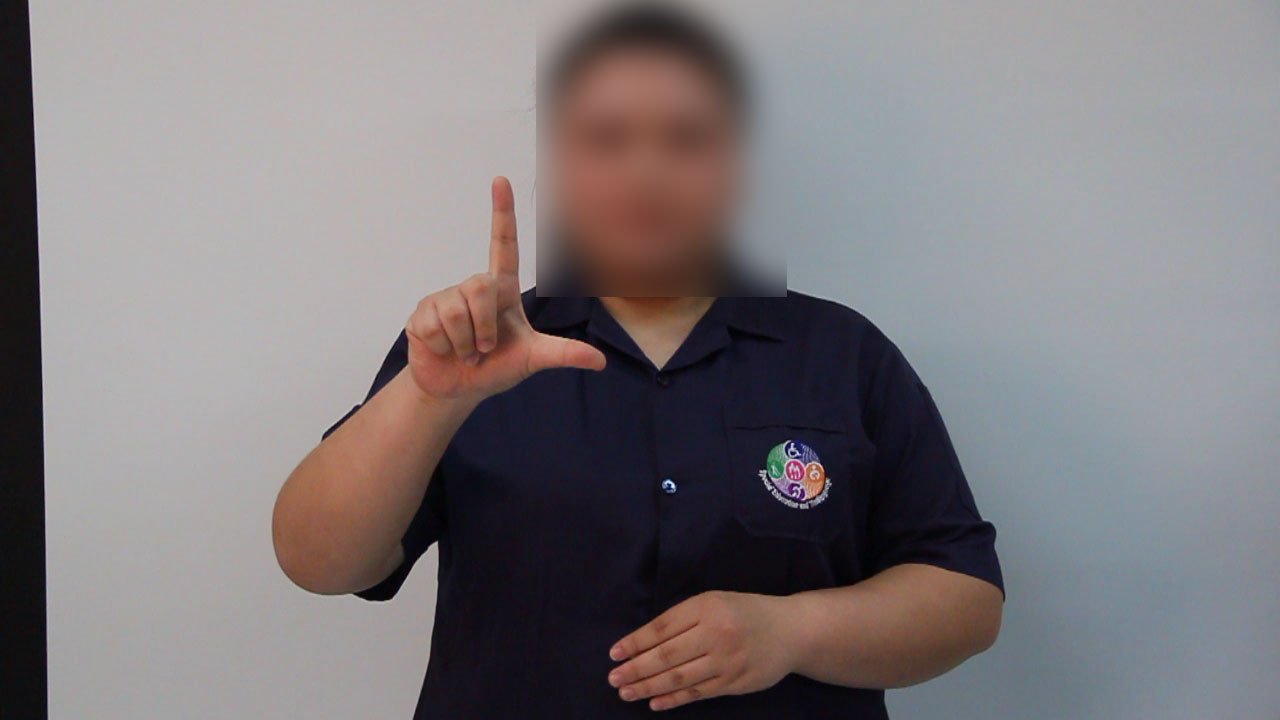lor: (351, 169, 621, 399)
